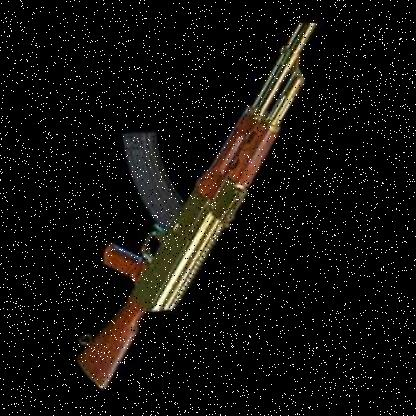rifle: (59, 9, 333, 398)
